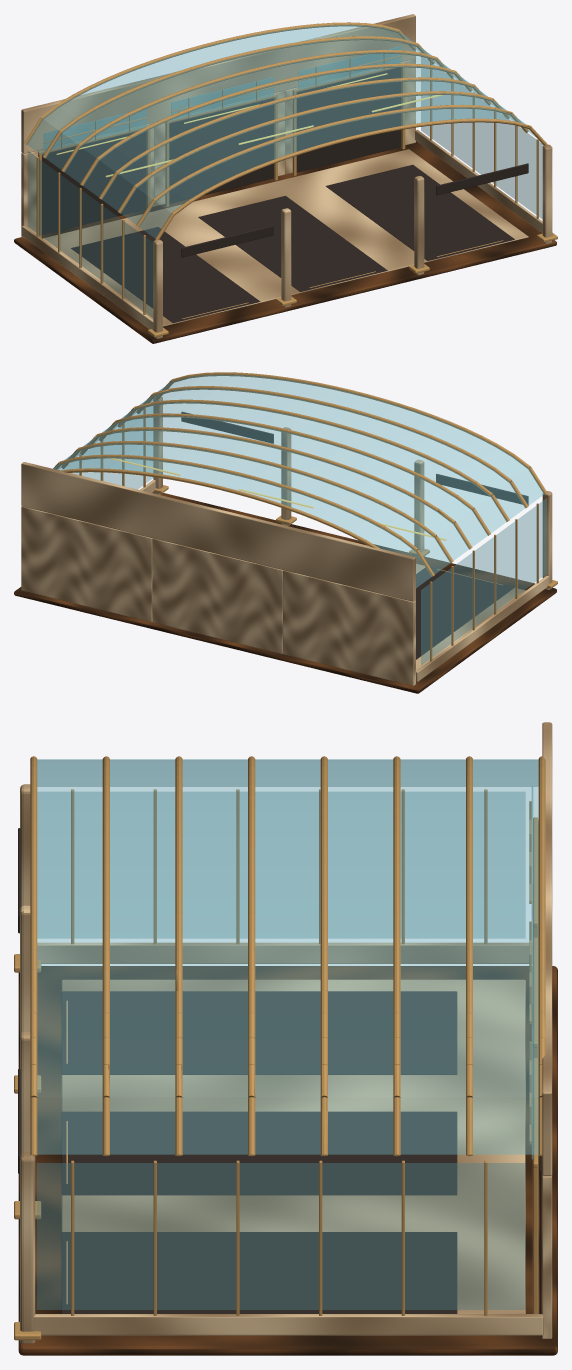
File: hangar-rear-gates.glb
3 renders of one model, top to bottom at view 1: azimuth 30°, elevation 25°; view 2: azimuth 150°, elevation 25°; view 3: azimuth 270°, elevation 25°, orthographic. The views are drawn at different scales.
Parts seen in each view (by area): view 1: RearGateHangarStatic_ArchitecturalGlass, RearGateHangarStatic_PaleTravertine, RearGateHangarStatic_DeepInterior, RearGateHangarStatic_AgedChampagneBrass, HangarFloorSlab, ASSET_HANGAR_DeepInterior.003, ASSET_HANGAR_DeepInterior.005, ASSET_HANGAR_DeepInterior.004, RearGateBacking1, RearGateBacking2, RearGateBacking3, RearGateHangarStatic_WarmEmissive; view 2: RearGateHangarStatic_ArchitecturalGlass, RearGateHangarStatic_PaleTravertine, RearGateHangarStatic_AgedChampagneBrass, RearGateBacking1, RearGateBacking3, RearGateBacking2, HangarFloorSlab, RearGateHangarStatic_DeepInterior, RearGateHangarStatic_WarmEmissive; view 3: RearGateHangarStatic_ArchitecturalGlass, RearGateHangarStatic_DeepInterior, RearGateHangarStatic_PaleTravertine, RearGateHangarStatic_AgedChampagneBrass, HangarFloorSlab, RearGateBacking3, ASSET_HANGAR_AgedChampagneBrass.019.
Boxes of the visible parts, x1,y1,x2,y2 form: RearGateHangarStatic_ArchitecturalGlass: [27, 25, 543, 317]; RearGateHangarStatic_PaleTravertine: [21, 14, 552, 338]; RearGateHangarStatic_DeepInterior: [71, 163, 528, 322]; RearGateHangarStatic_AgedChampagneBrass: [24, 22, 557, 337]; HangarFloorSlab: [14, 141, 556, 343]; ASSET_HANGAR_DeepInterior.003: [42, 131, 146, 234]; ASSET_HANGAR_DeepInterior.005: [296, 67, 401, 172]; ASSET_HANGAR_DeepInterior.004: [169, 98, 273, 203]; RearGateBacking1: [21, 122, 154, 238]; RearGateBacking2: [154, 90, 285, 205]; RearGateBacking3: [285, 58, 415, 174]; RearGateHangarStatic_WarmEmissive: [56, 73, 442, 177]; RearGateHangarStatic_ArchitecturalGlass: [53, 374, 546, 665]; RearGateHangarStatic_PaleTravertine: [21, 397, 552, 682]; RearGateHangarStatic_AgedChampagneBrass: [53, 372, 557, 661]; RearGateBacking1: [283, 570, 415, 685]; RearGateBacking3: [21, 506, 152, 621]; RearGateBacking2: [152, 538, 282, 653]; HangarFloorSlab: [14, 492, 556, 693]; RearGateHangarStatic_DeepInterior: [181, 411, 528, 659]; RearGateHangarStatic_WarmEmissive: [108, 458, 446, 540]; RearGateHangarStatic_ArchitecturalGlass: [37, 759, 538, 1309]; RearGateHangarStatic_DeepInterior: [18, 828, 457, 1313]; RearGateHangarStatic_PaleTravertine: [20, 722, 552, 1343]; RearGateHangarStatic_AgedChampagneBrass: [14, 756, 545, 1340]; HangarFloorSlab: [18, 966, 557, 1355]; RearGateBacking3: [542, 1174, 552, 1338]; ASSET_HANGAR_AgedChampagneBrass.019: [532, 1165, 538, 1313].
Bounding box in the file's own units: 25 × 9.2 × 15.
Materials: 6 (2 with a texture image).
